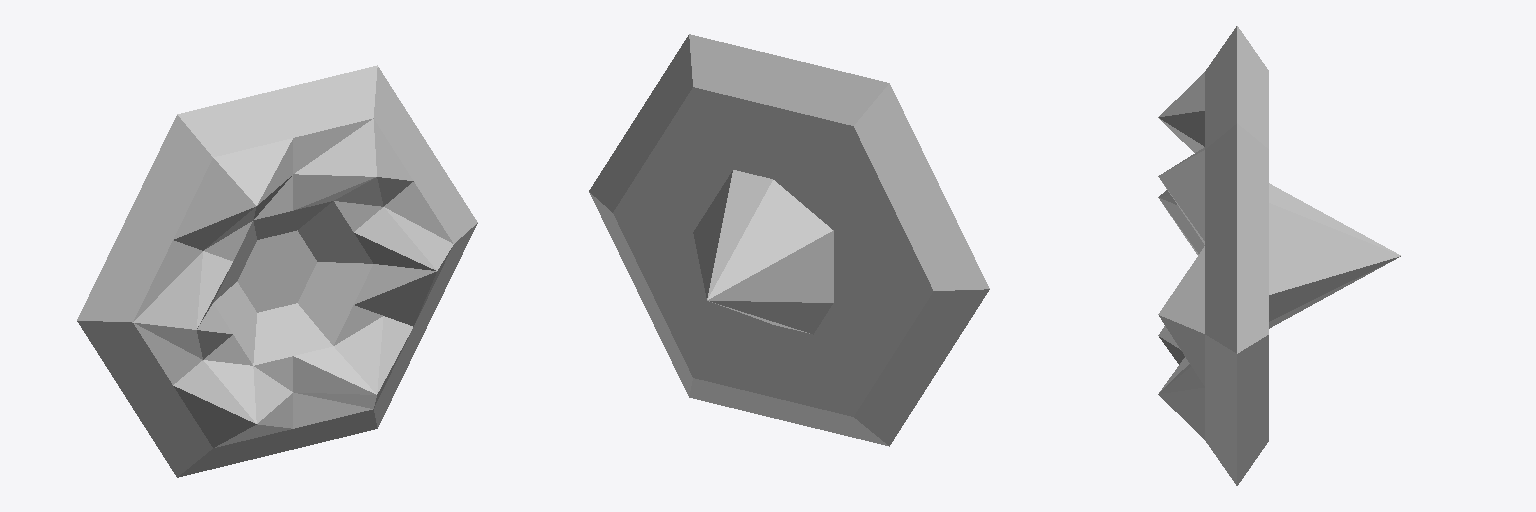
The model's file is Hook.obj.
The picture shows the model from 3 angles: view 1: azimuth 30°, elevation 25°; view 2: azimuth 150°, elevation 25°; view 3: azimuth 270°, elevation 25°; orthographic projection.
Visible parts, largest first — view 1: Hook; view 2: Hook; view 3: Hook.
Part boxes in pixels (x1,y1,x2,y2): Hook: (77, 65, 477, 477); Hook: (589, 34, 989, 446); Hook: (1158, 26, 1400, 485).
Size of the model in its own units: 0.375 by 0.3248 by 0.1974.